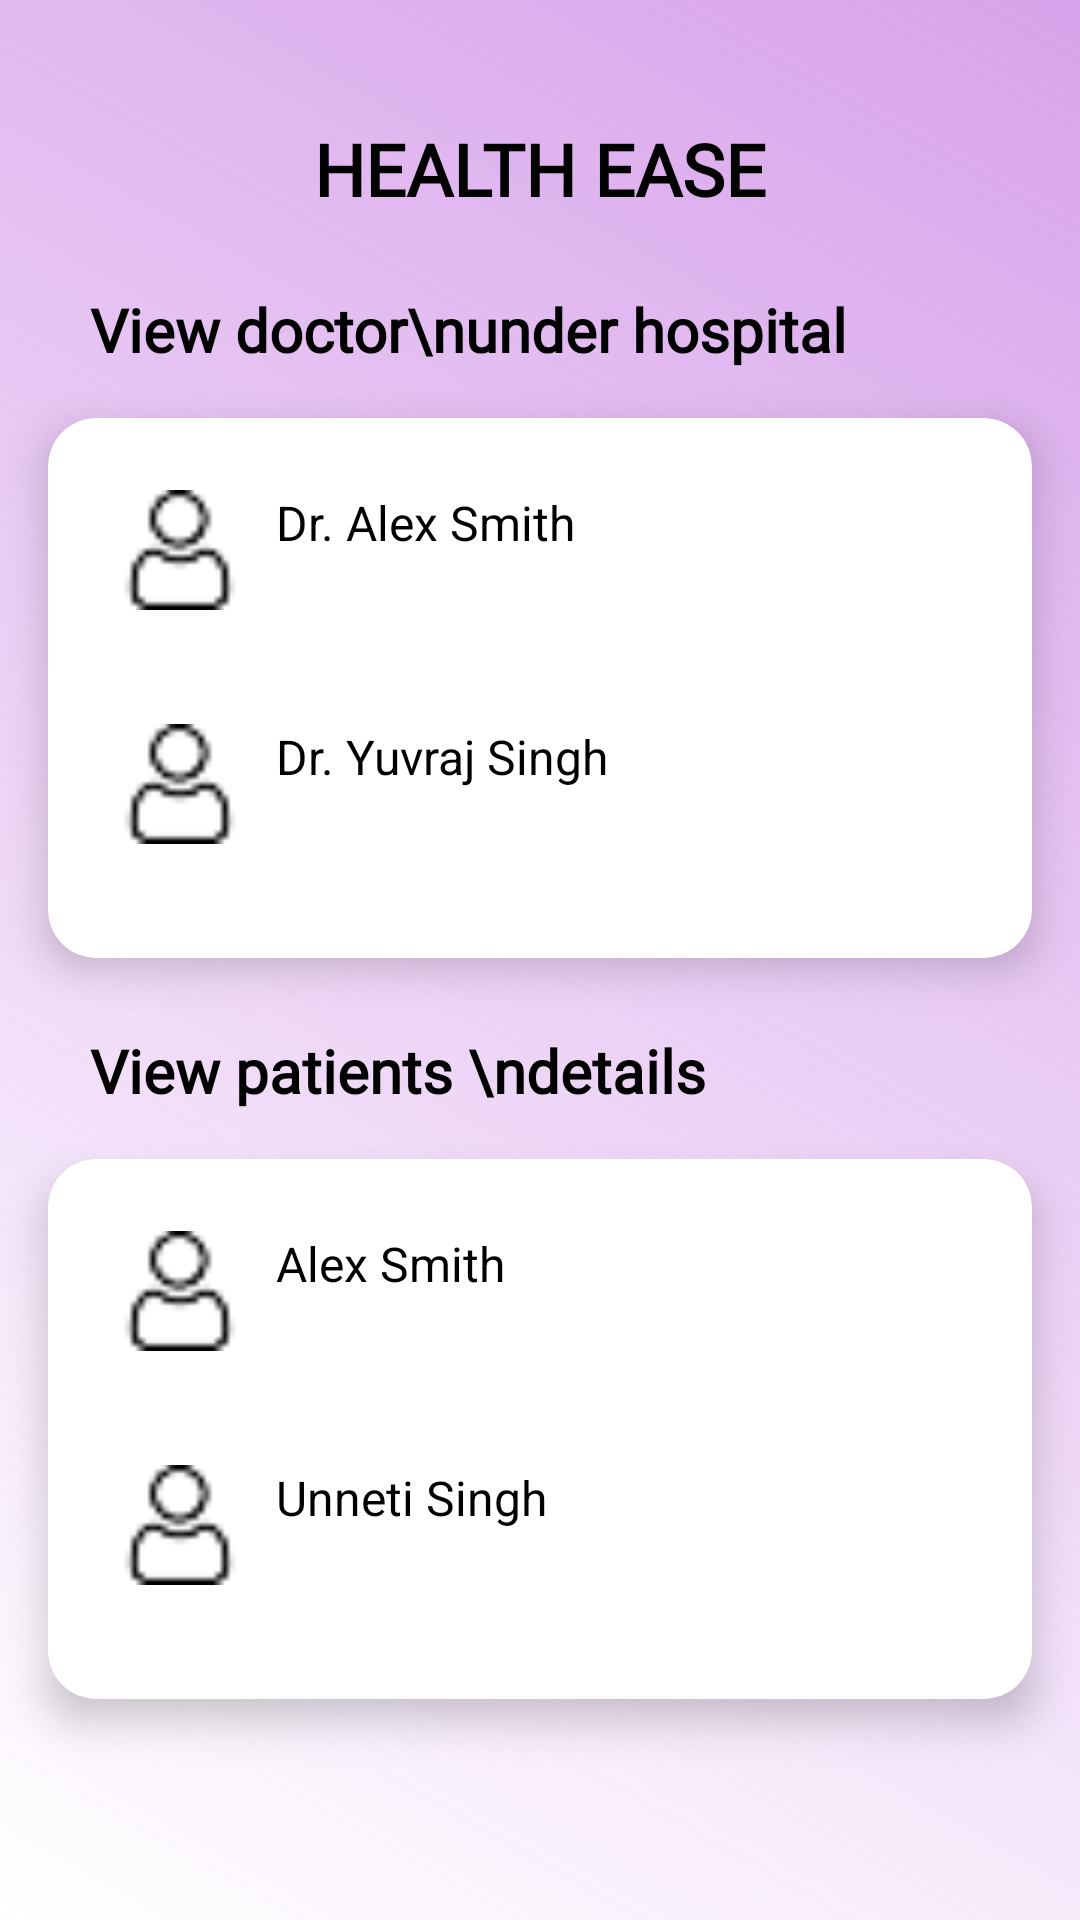

Icon click points for this 1080 × 1920 phone screenshot, format (x,y):
user: (179,550), (179,784), (179,1291), (179,1525)
